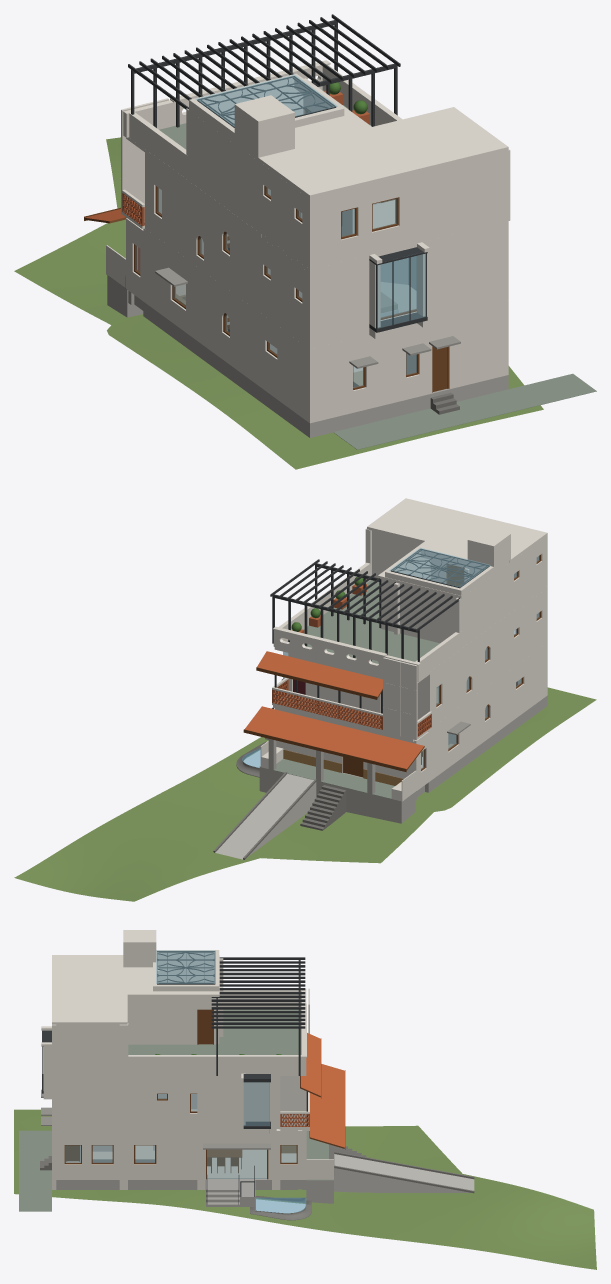
Rendered from residence.glb.
3 renders of one model, top to bottom at view 1: azimuth 30°, elevation 25°; view 2: azimuth 150°, elevation 25°; view 3: azimuth 270°, elevation 25°, orthographic. The views are drawn at different scales.
Parts seen in each view (by area): view 1: South wall (×8), West wall (×6), Site, Terrace roof, Partition 1 (×2), Partition 12 (×4), Utility Area, Plinth, Bay window, back glass, Water tank, Skylight glass, Parapet (×2) (+14 smaller); view 2: Site, West wall (×6), Terrace roof, Roof over thinnai (×2), Partition 12 (×4), Entry ramp, Open Terrace (×2), Partition 3 (×2), Concrete tower, Roof over the balcony, Skylight glass, Thinnai plinth (+11 smaller); view 3: Site (×2), Partition 13 (×4), Terrace roof, Parapet (×2), Open Terrace (×2), Entry ramp, Partition 5, East wall, Partition 11 (×3), Utility Area, Roof over thinnai, French doors to the deck, dining east (×3) (+21 smaller).
Part boxes in pixels (x1,y1,x2,y2): South wall (×8): [310, 150, 508, 423]; West wall (×6): [140, 111, 309, 422]; Site: [14, 137, 543, 469]; Terrace roof: [189, 78, 508, 198]; Partition 1 (×2): [310, 225, 508, 348]; Partition 12 (×4): [162, 165, 299, 337]; Utility Area: [333, 373, 596, 449]; Plinth: [128, 291, 508, 437]; Bay window, back glass: [377, 253, 425, 328]; Water tank: [234, 95, 294, 157]; Skylight glass: [196, 74, 337, 127]; Parapet (×2): [129, 65, 402, 180]; Site: [14, 687, 596, 901]; West wall (×6): [423, 543, 547, 783]; Terrace roof: [367, 498, 547, 598]; Roof over thinnai (×2): [243, 706, 424, 772]; Partition 12 (×4): [438, 596, 536, 719]; Entry ramp: [215, 773, 316, 859]; Open Terrace (×2): [287, 580, 439, 663]; Partition 3 (×2): [305, 579, 456, 707]; Concrete tower: [383, 657, 417, 740]; Roof over the balcony: [257, 651, 382, 698]; Skylight glass: [389, 547, 490, 587]; Thinnai plinth: [259, 767, 415, 823]; Site (×2): [14, 1109, 596, 1269]; Partition 13 (×4): [56, 1076, 275, 1128]; Terrace roof: [52, 955, 219, 1024]; Parapet (×2): [128, 990, 304, 1073]; Open Terrace (×2): [128, 1009, 301, 1054]; Entry ramp: [334, 1154, 474, 1192]; Partition 5: [127, 997, 197, 1044]; East wall: [56, 1023, 128, 1073]; Partition 11 (×3): [82, 1131, 197, 1179]; Utility Area: [19, 1130, 51, 1211]; Roof over thinnai: [309, 1064, 344, 1148]; French doors to the deck, dining east (×3): [203, 1143, 270, 1178].
Bounding box in the file's own units: 17.18 × 13.3 × 31.65.
